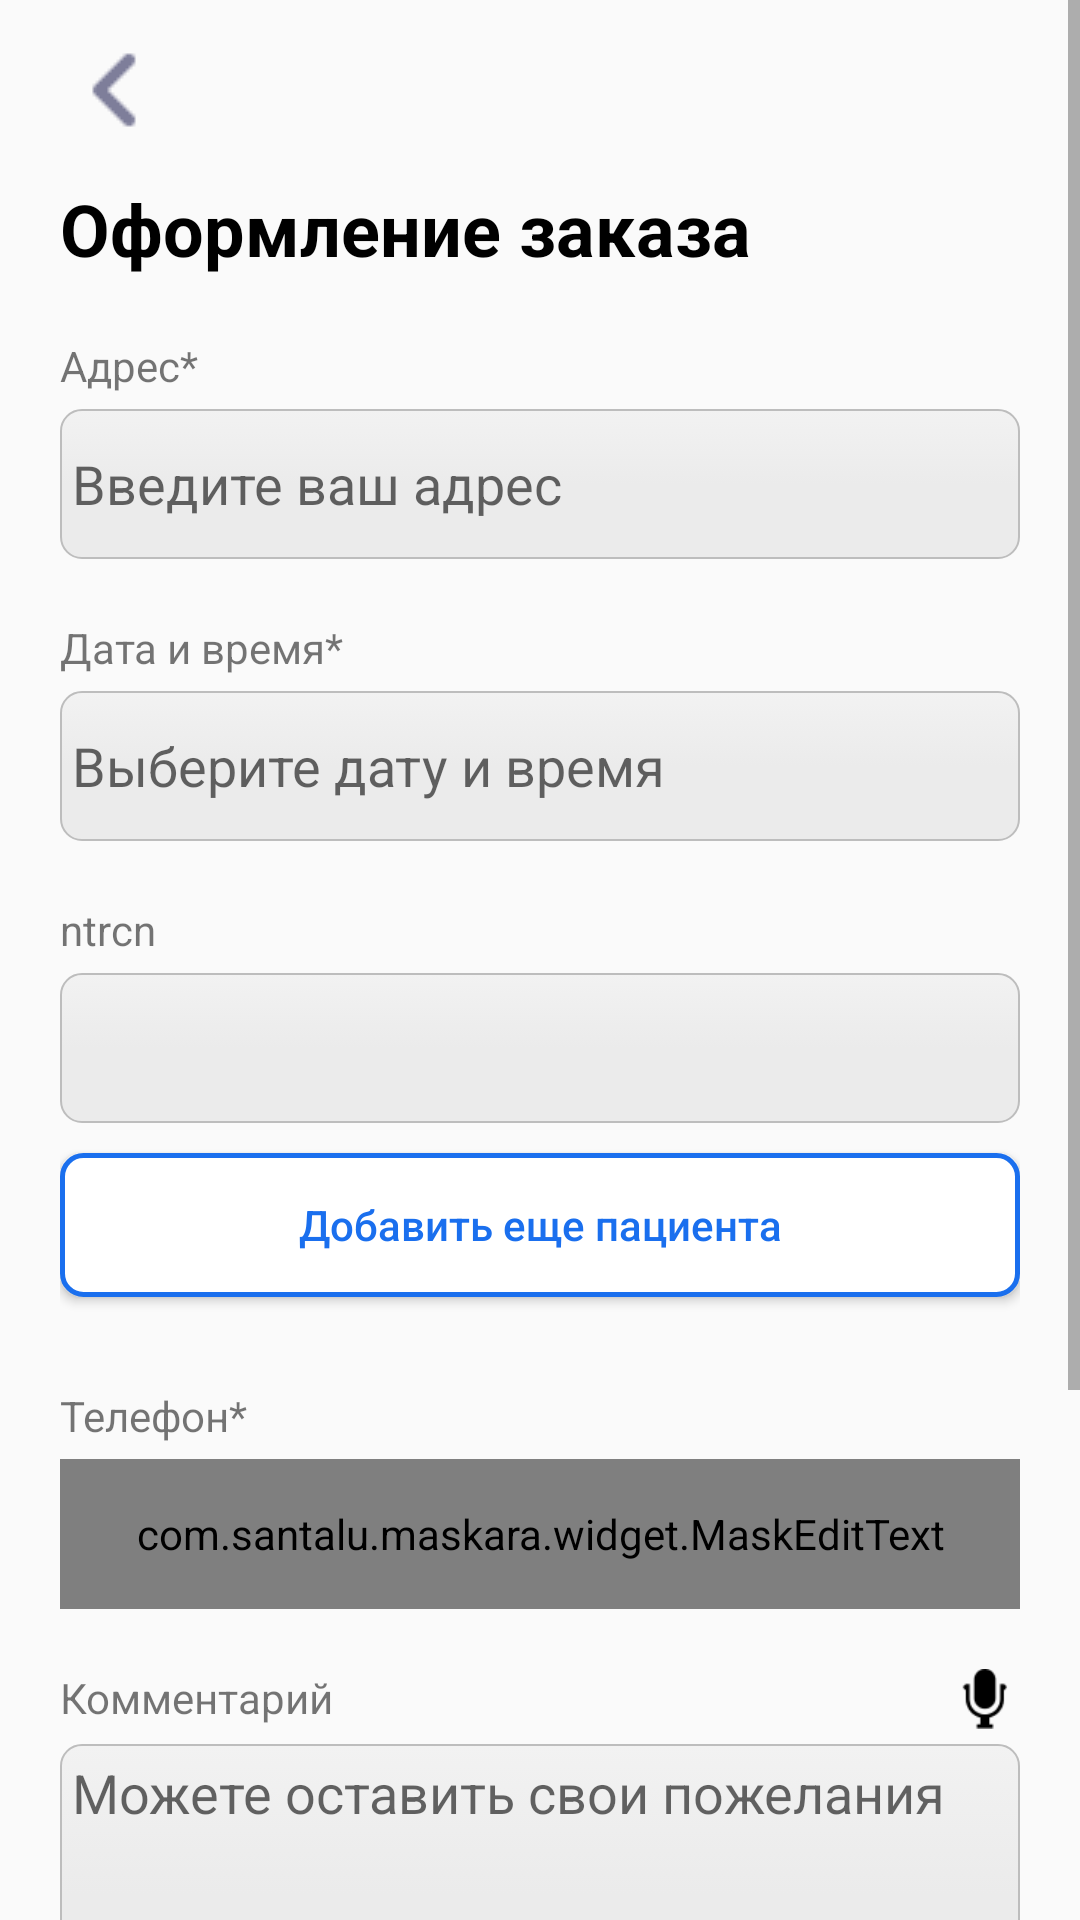

Where to tap for icons on this 1080px x 1920px app screen, as point (x, y):
back: point (114, 90)
micro: point (984, 1699)
